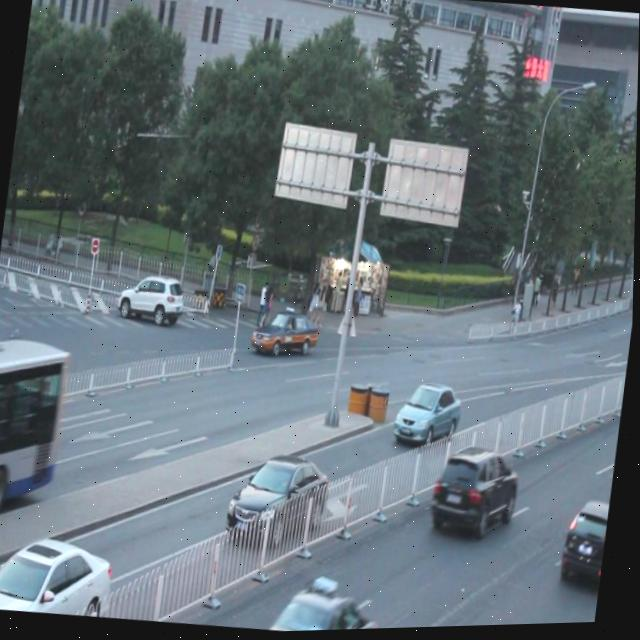car: (0, 519, 121, 621), (223, 443, 335, 551), (429, 441, 525, 544), (262, 575, 385, 634), (391, 375, 468, 453), (558, 497, 612, 591), (250, 303, 324, 360), (120, 271, 183, 326), (392, 620, 478, 631)
van: (0, 329, 72, 531)
